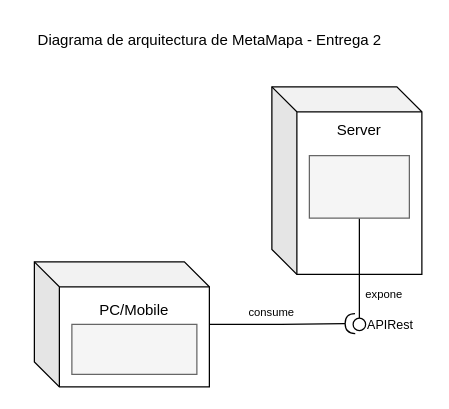
The diagram is 449 pixels wide and 409 high, and some of its shapes have lost their labels. Each missing label, with the centre of its shape:
"App Client MetaMapa" belongs at point (134, 348).
"MetaMapa Backend (Spring)" belongs at point (358, 186).
